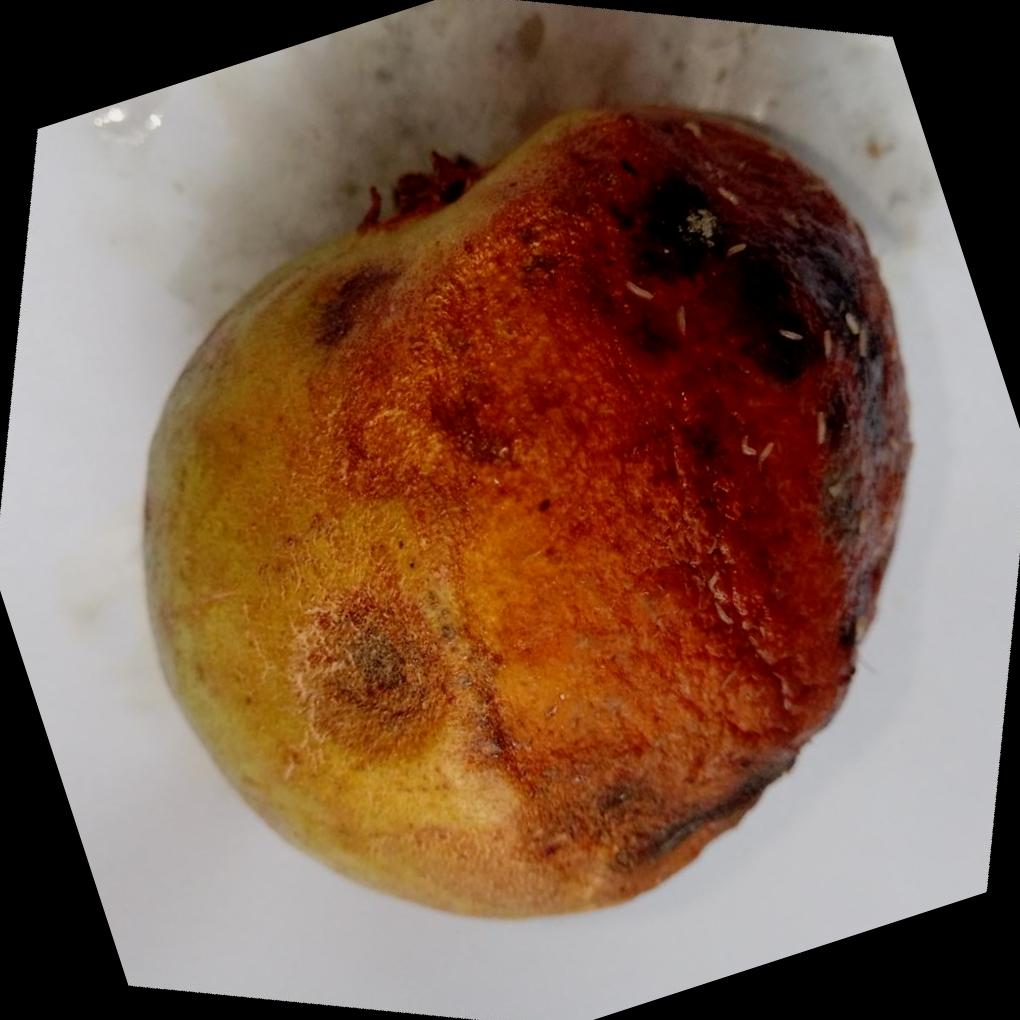FreshOrange: (143, 101, 919, 922)
